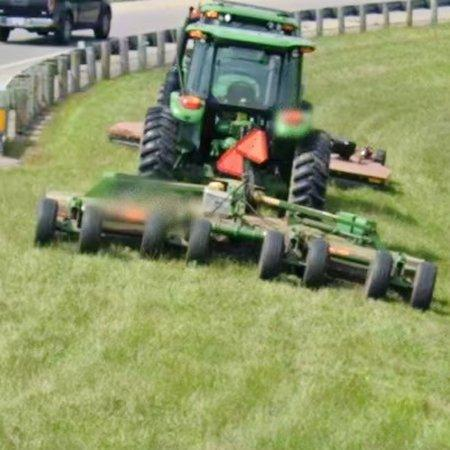tractors: (35, 1, 437, 310)
